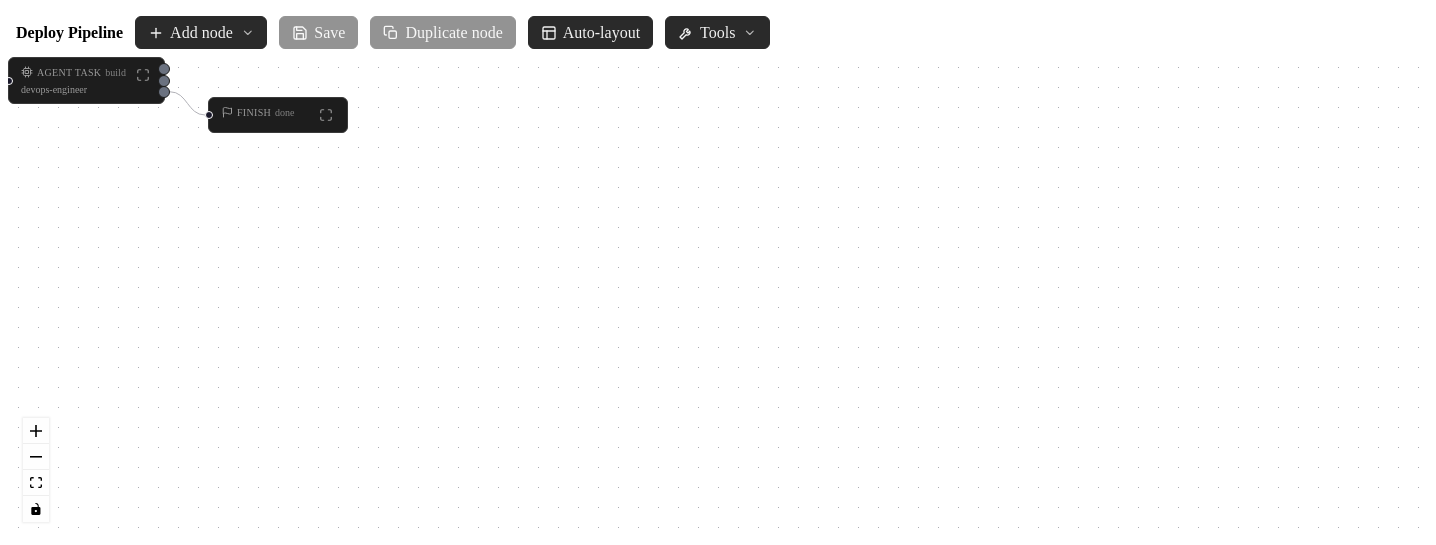
Test: FlowEditor › re-lays-out the graph when Auto-layout is clicked
The image size is (1436, 545).
Expected: the button "Save" is disabled, [279,16,358,49]
Click the button "Auto-layout" at [590, 33], box [528,16,653,49]
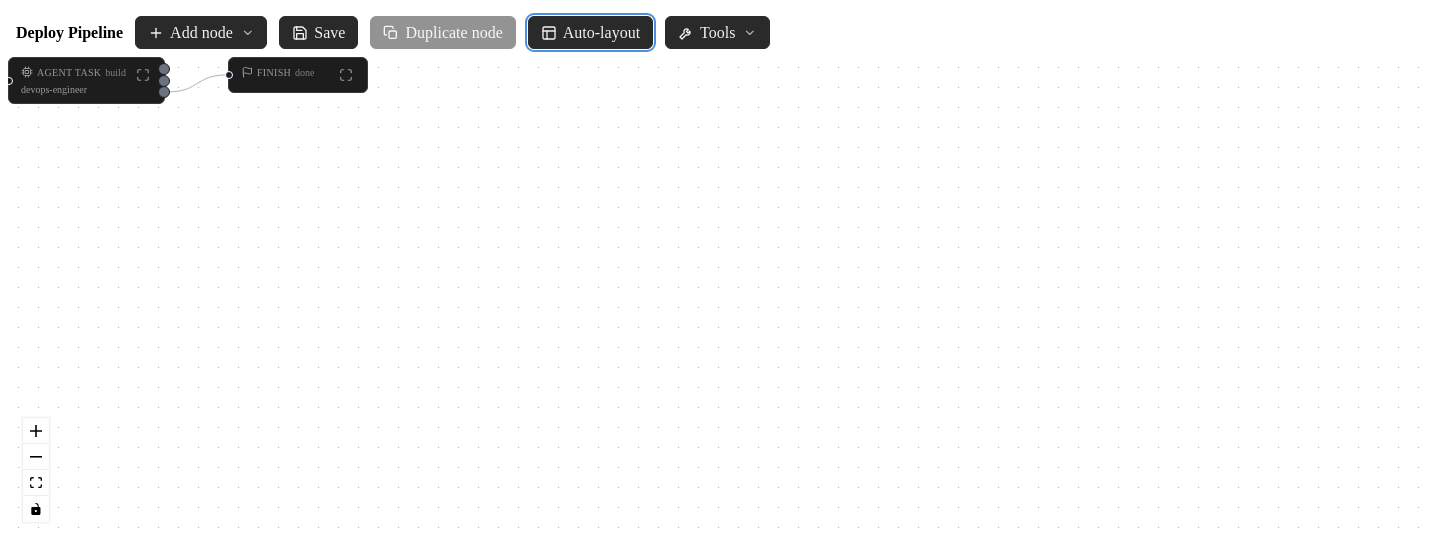
Expected: the button "Save" is enabled, [279,16,358,49]
